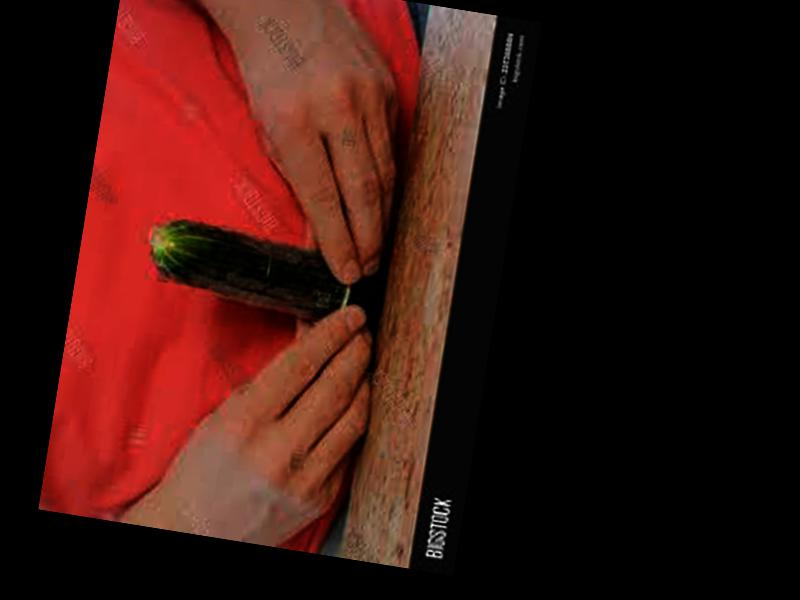Cucumber: (142, 214, 388, 329)
